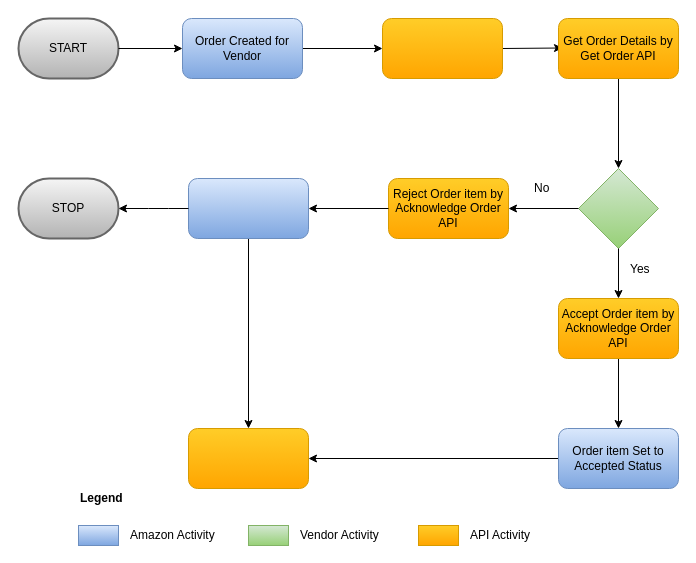
The diagram is 696 pixels wide and 563 high, and some of its shapes have lost their labels. Each missing label, with the box of its shape:
Can Fulfill Order item?: (578, 168, 658, 248)
Get List of Orders by Get Orders API: (382, 18, 502, 78)
Get Purchase Orders Status: (188, 428, 308, 488)
Order item set to Rejected Status: (188, 178, 308, 238)
